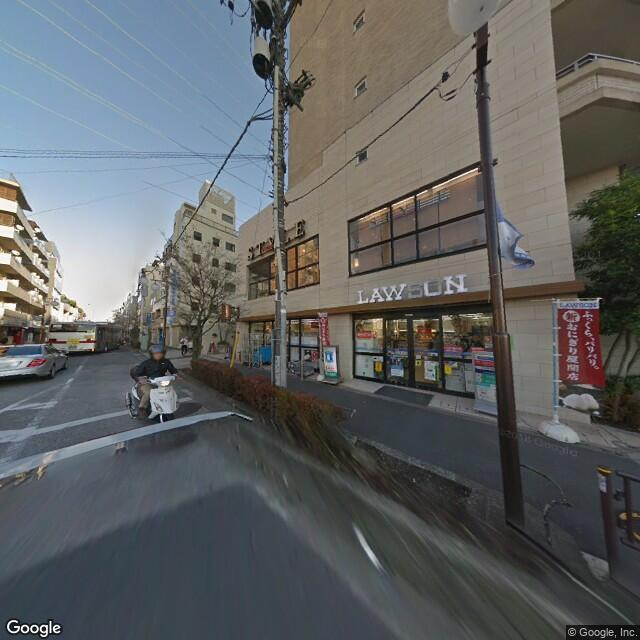lawson: (351, 265, 473, 306)
